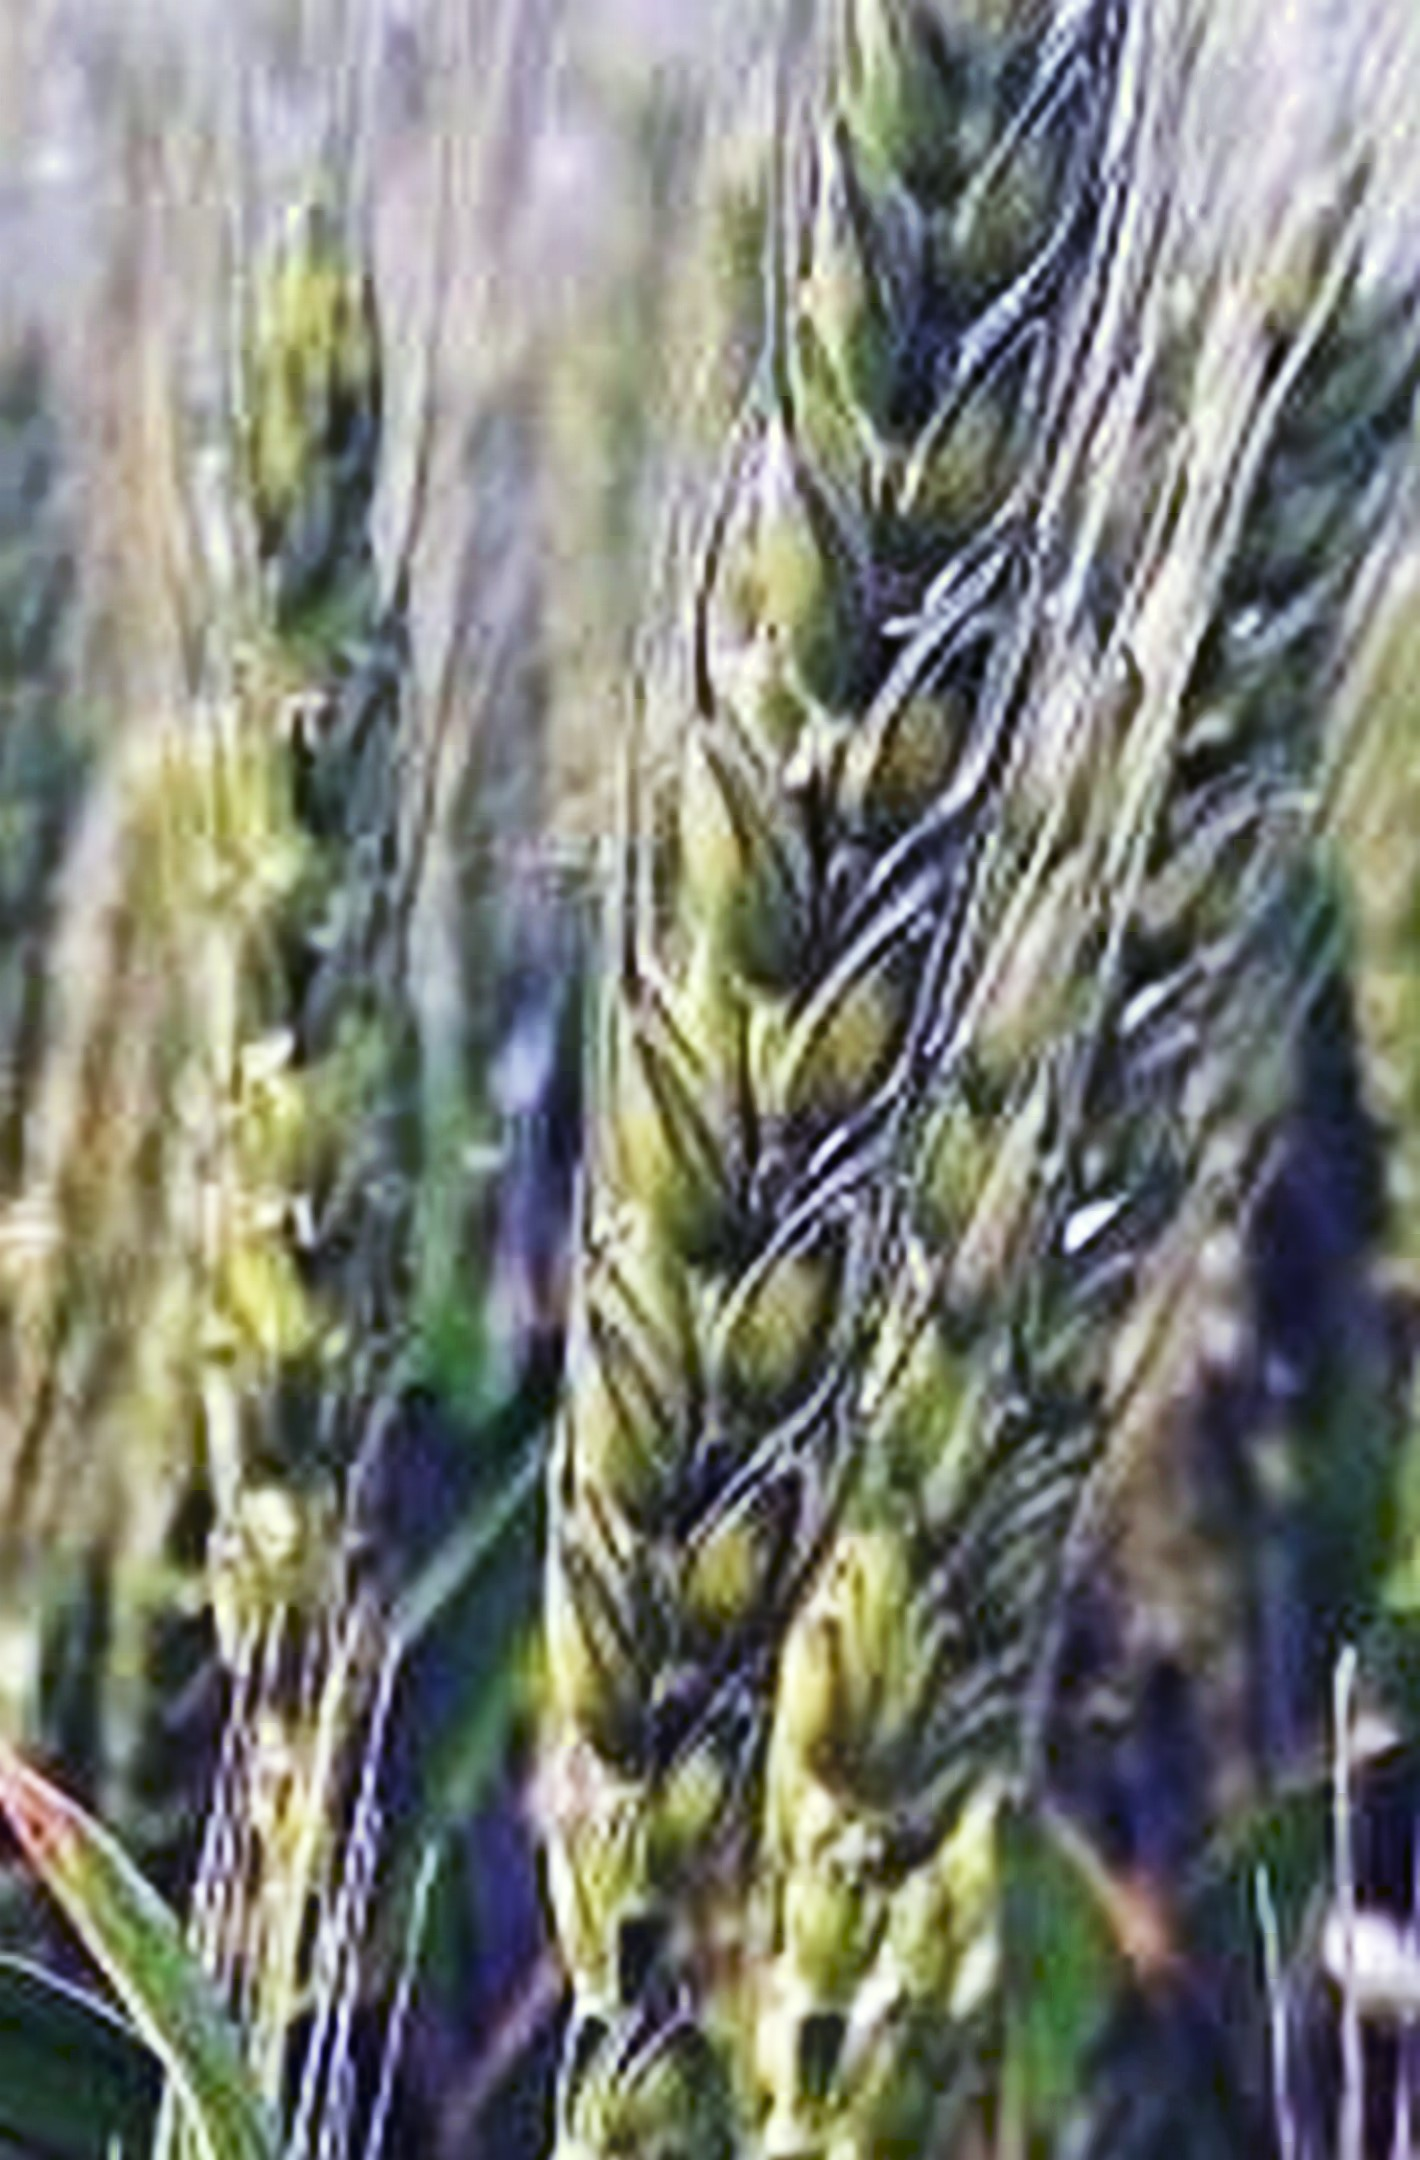Healthy Wheat: (521, 2, 1173, 1906)
